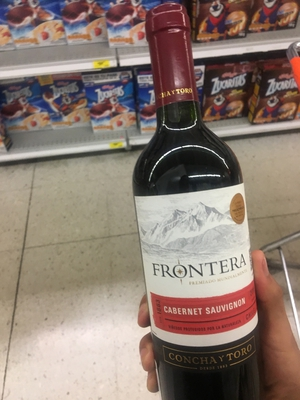frontera cabernet sauvignon: (113, 8, 268, 377)
